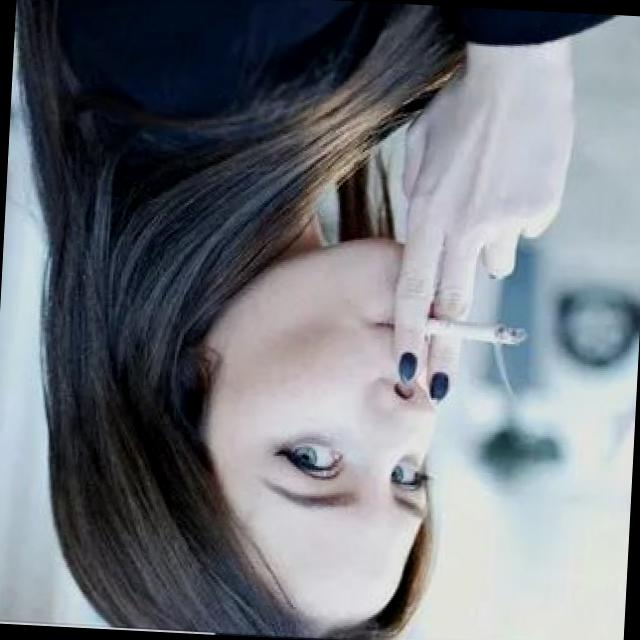smoke: (412, 305, 536, 351)
